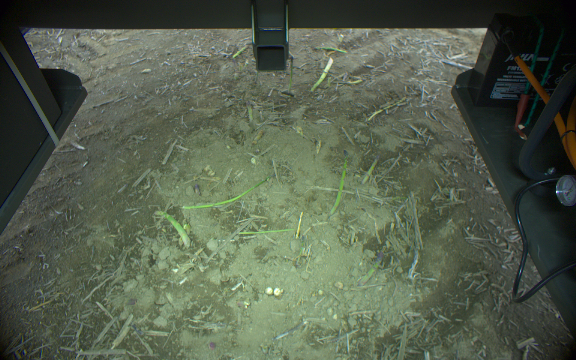aspa: (181, 172, 276, 211), (152, 209, 192, 250), (327, 149, 350, 217), (358, 250, 385, 287), (310, 57, 334, 94), (360, 153, 382, 185), (237, 227, 300, 238), (314, 43, 347, 54), (288, 54, 295, 94), (233, 44, 248, 59)
